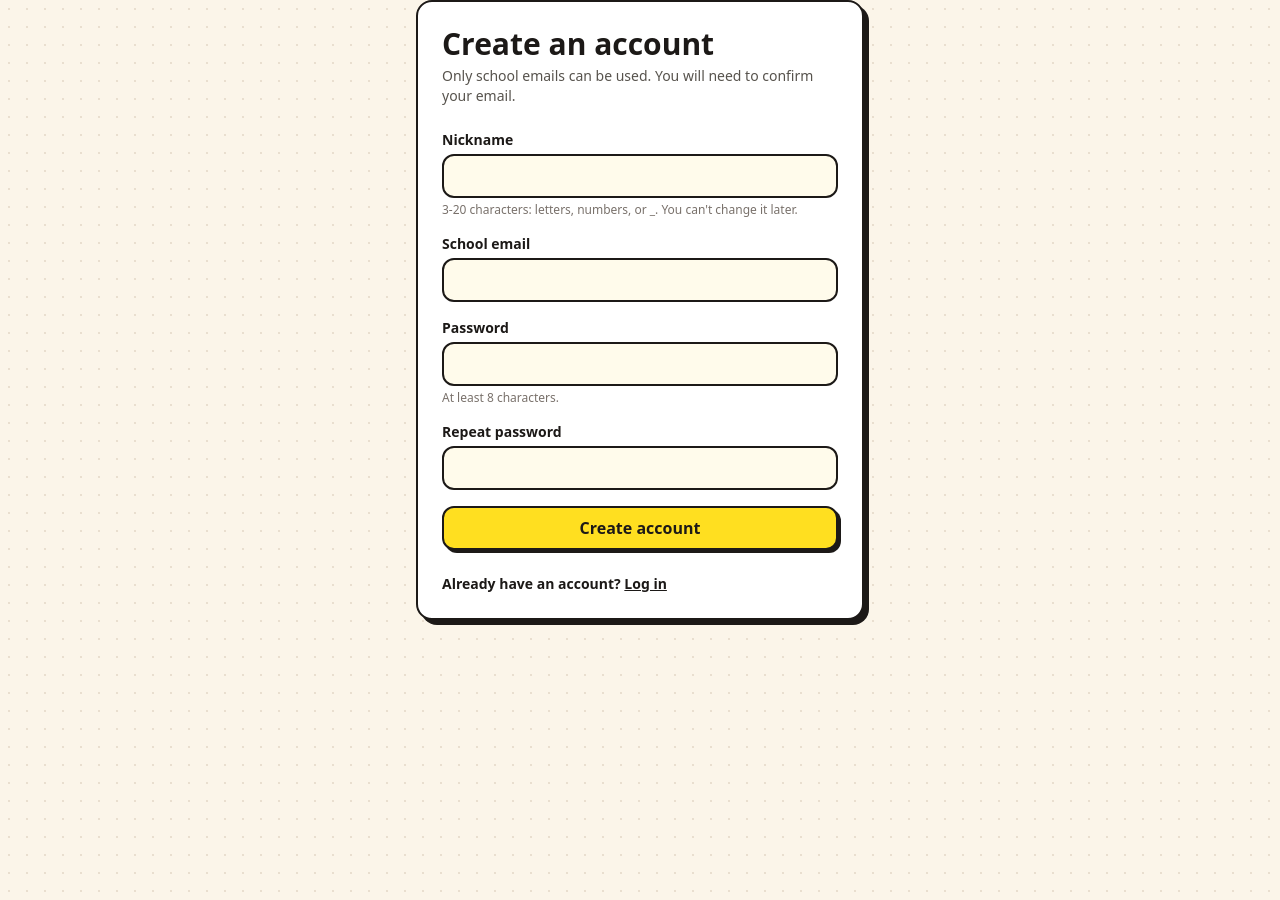
Test: RegisterPage › checks that both passwords match
In the field labelled "Nickname": (640, 176) [442, 154, 838, 198], type "alice"
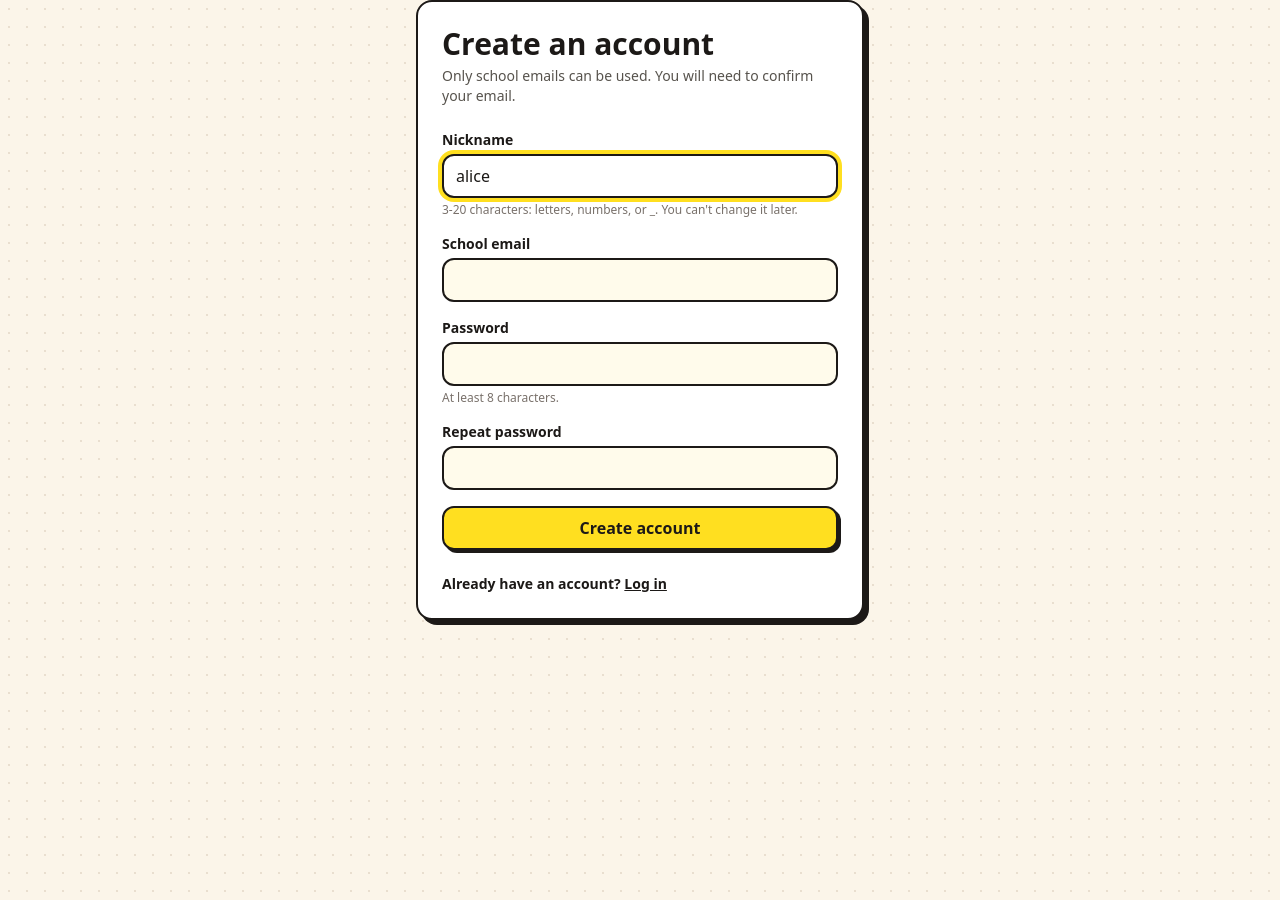
In the field labelled "School email": (640, 280) [442, 258, 838, 302], type "alice@example.edu"
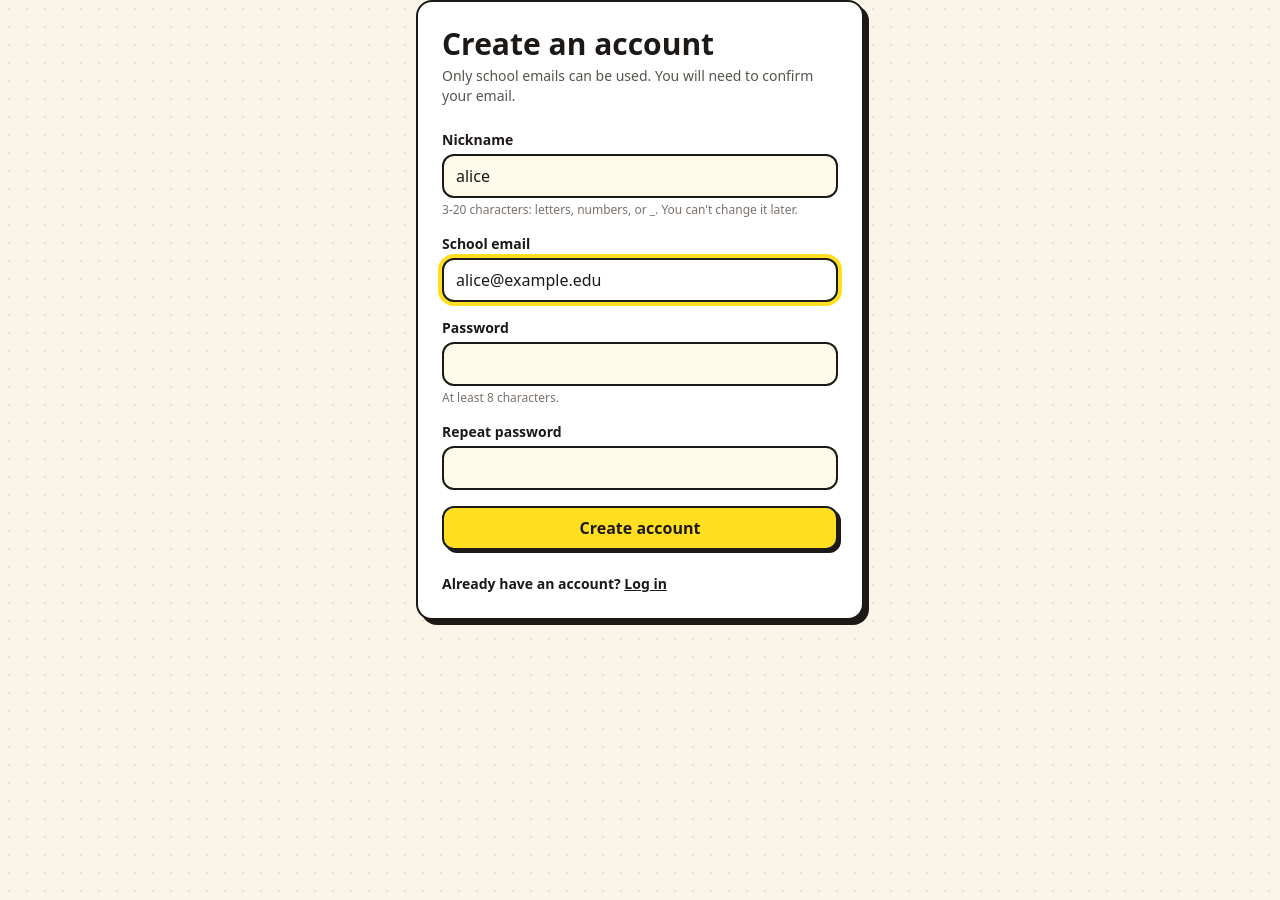
In the password field labelled "Password": (640, 364) [442, 342, 838, 386], type "password1"
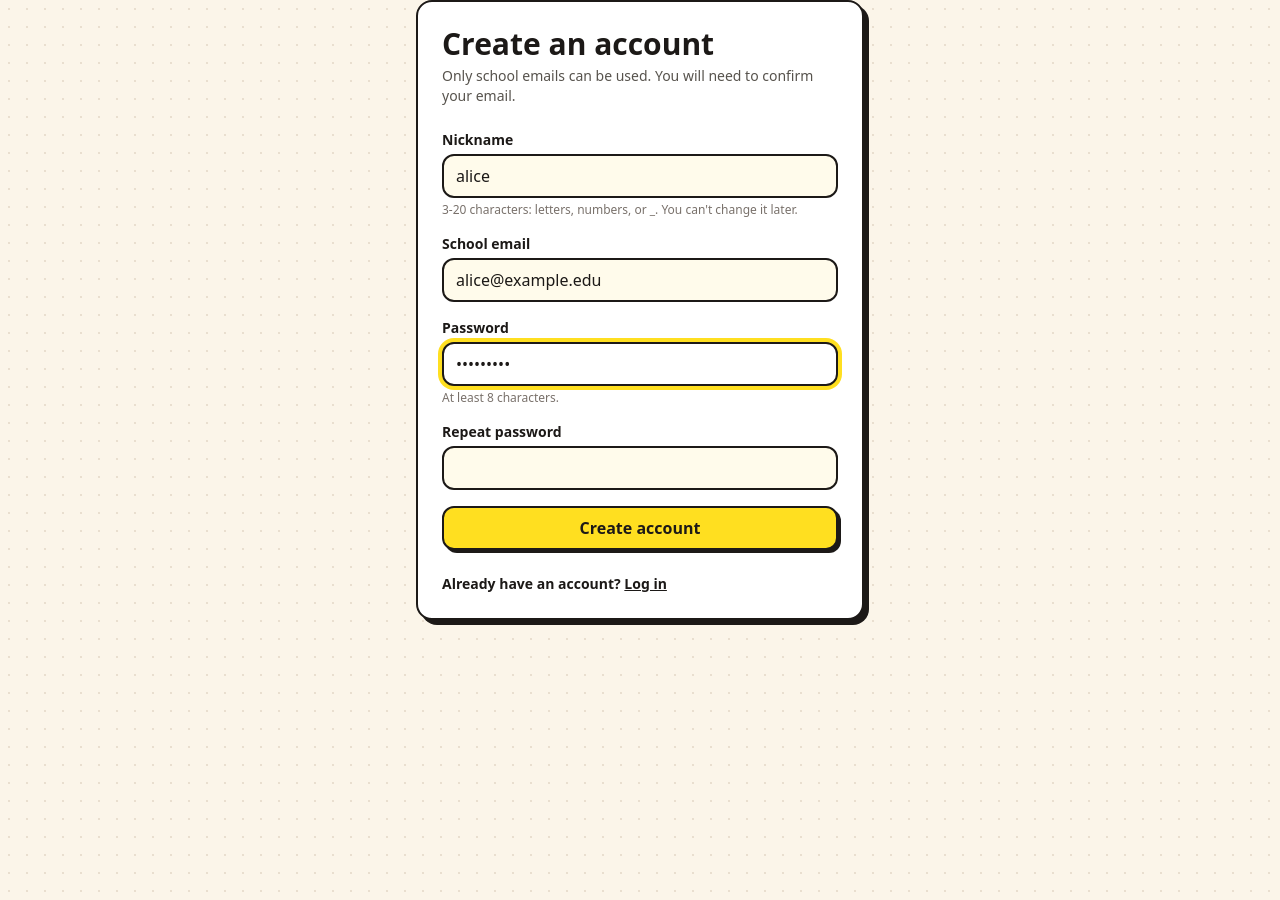
In the password field labelled "Repeat password": (640, 468) [442, 446, 838, 490], type "different1"
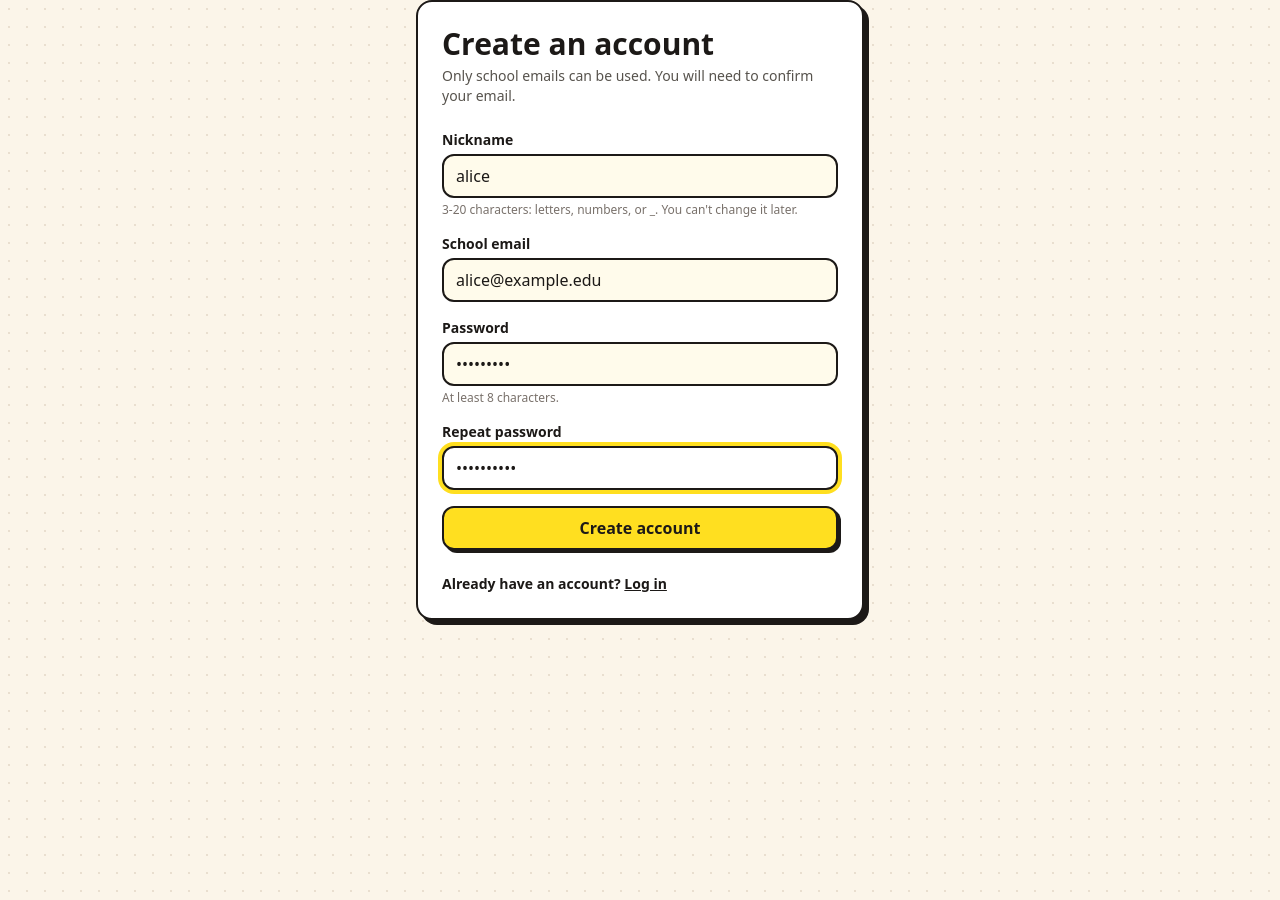
Click the button "Create account": (640, 528) [442, 506, 838, 550]
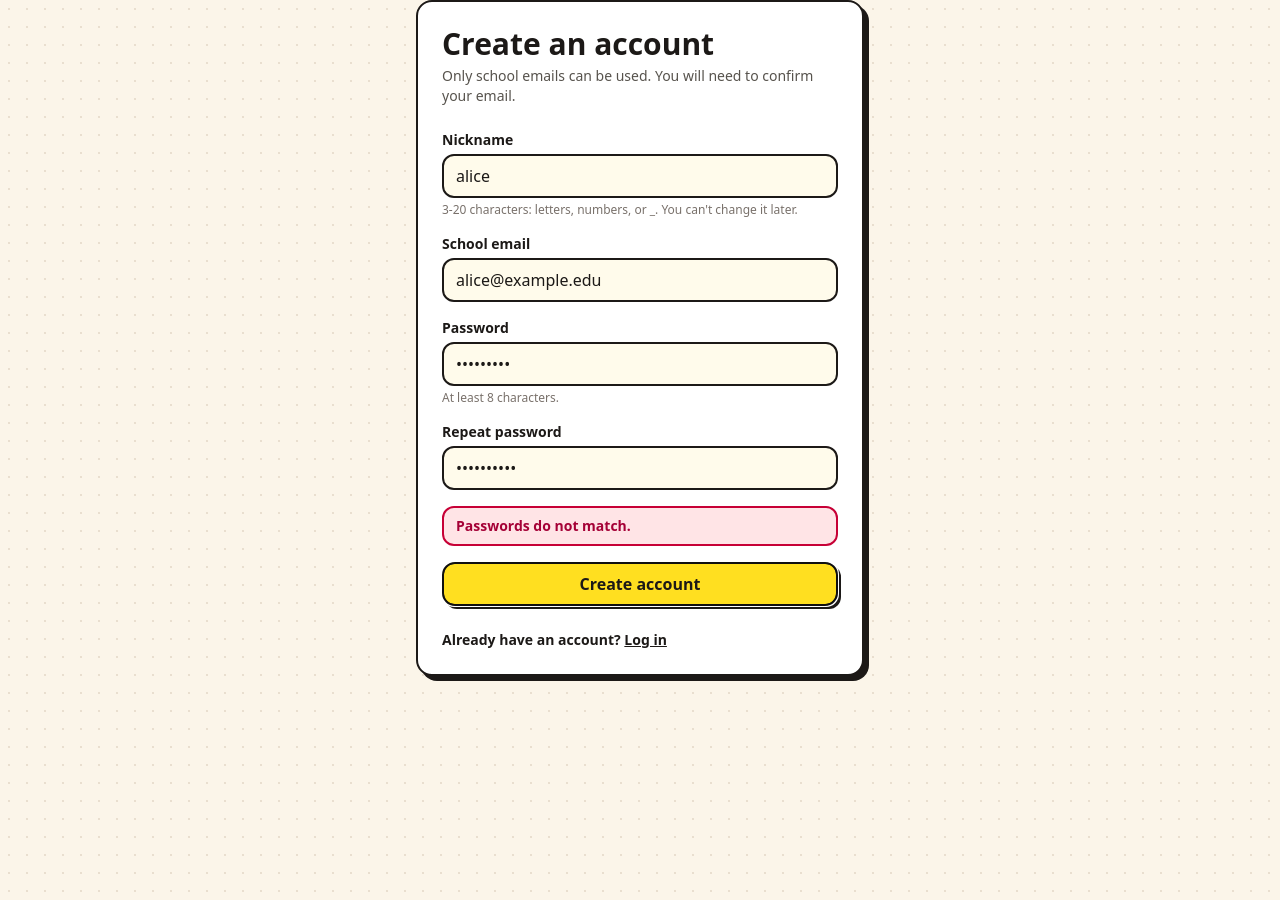
Check: the message reads "Passwords do not match.", box [456, 516, 631, 535]
